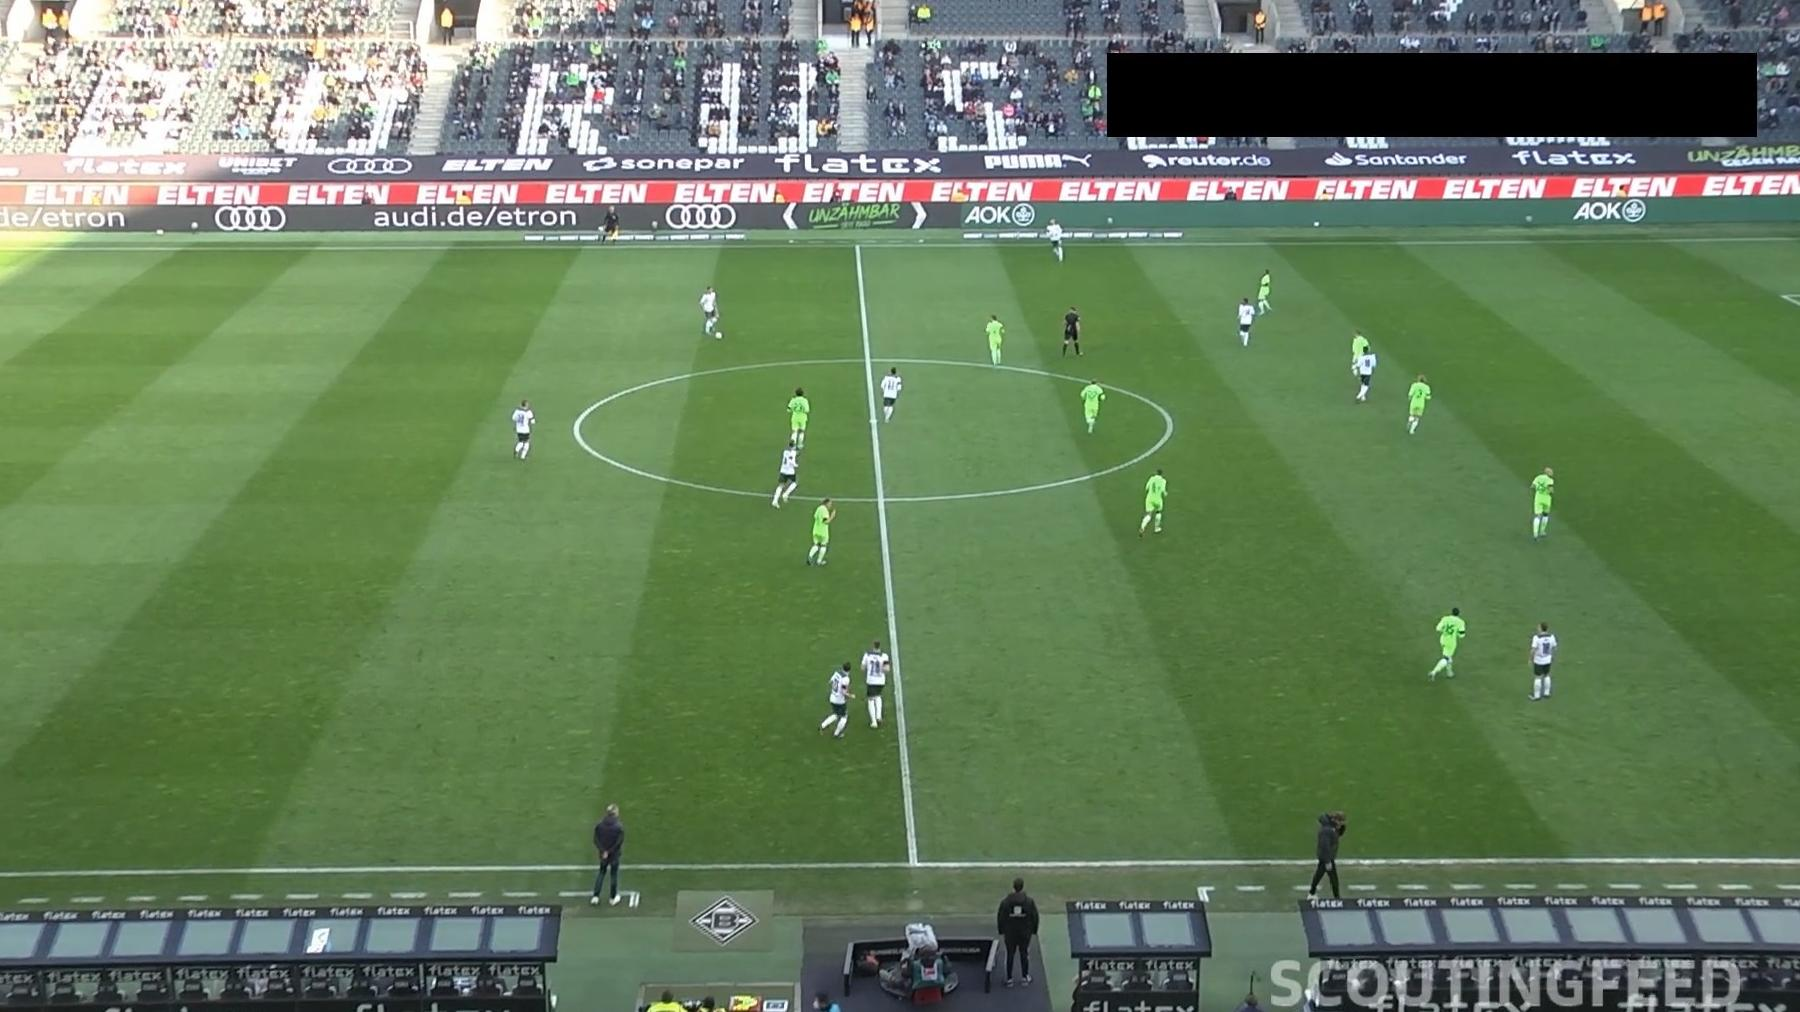ball: (715, 331, 723, 340)
